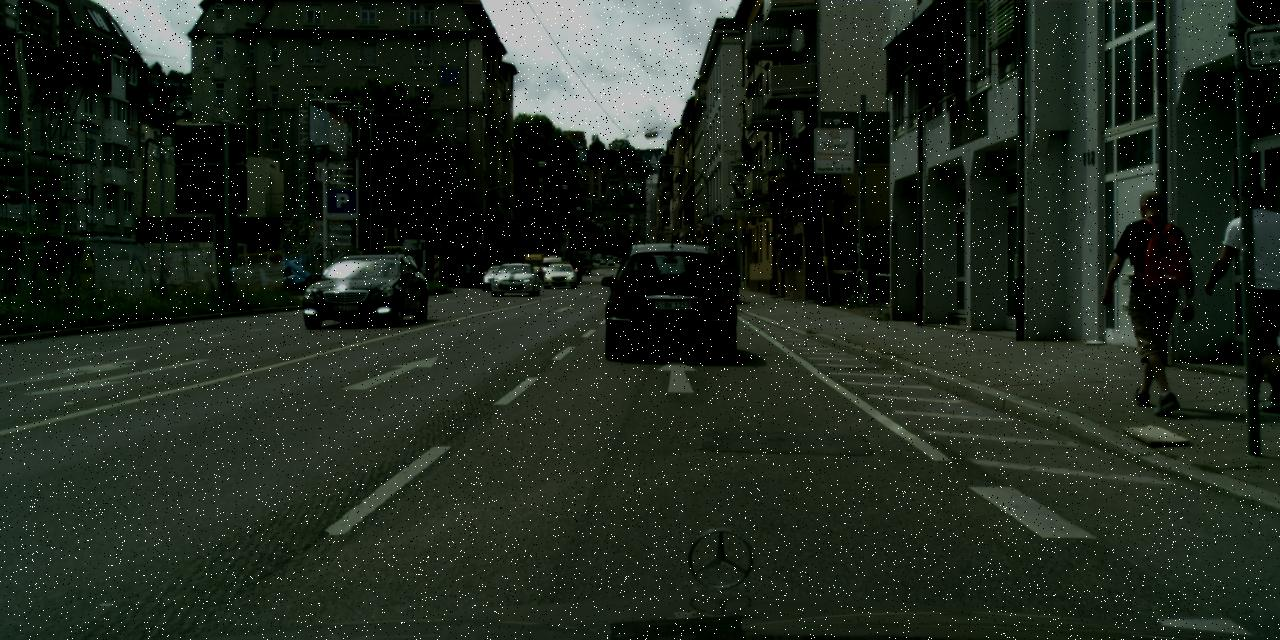ped: (1108, 189, 1198, 409), (1208, 182, 1278, 406), (464, 261, 472, 281)
